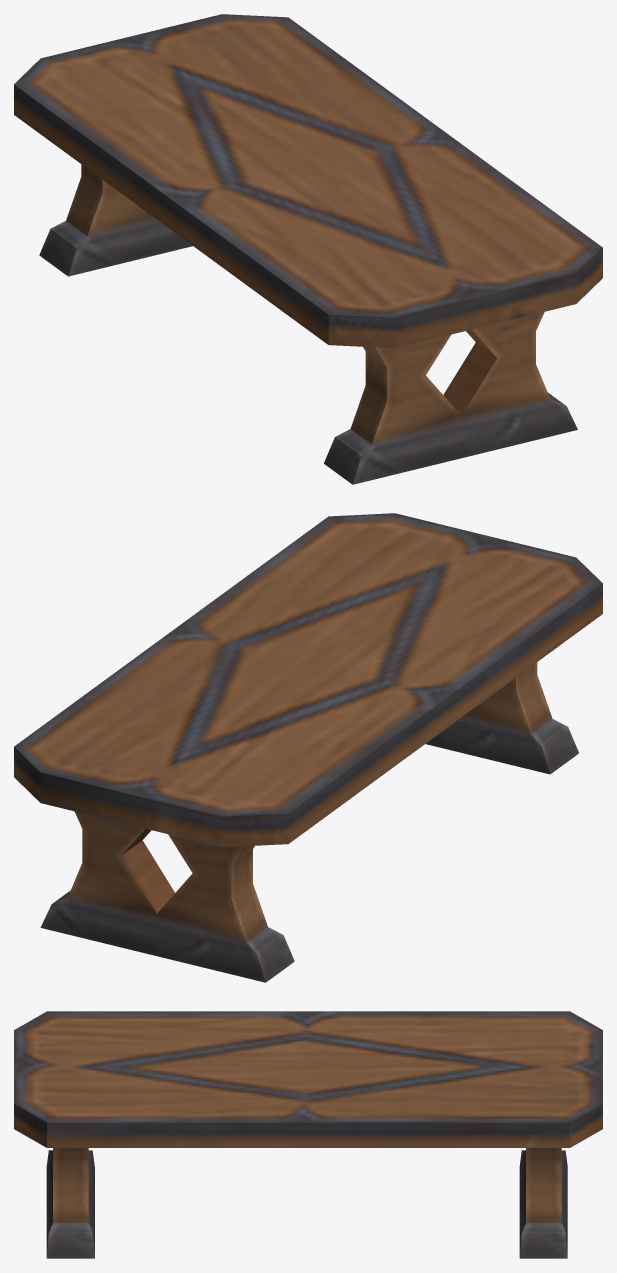
File: wood_desk.FBX
3 views of the same model, one above another, from view 1: azimuth 30°, elevation 25°; view 2: azimuth 150°, elevation 25°; view 3: azimuth 270°, elevation 25° (orthographic). The views are drawn at different scales.
Visible parts, largest first — view 1: Object110; view 2: Object110; view 3: Object110.
Boxes of the visible parts, box(x1,y1,x2,y2) form: Object110: box(14, 14, 602, 484); Object110: box(14, 513, 602, 982); Object110: box(14, 1011, 602, 1258).
Bounding box in the file's own units: 1.01 × 0.6214 × 2.27.
